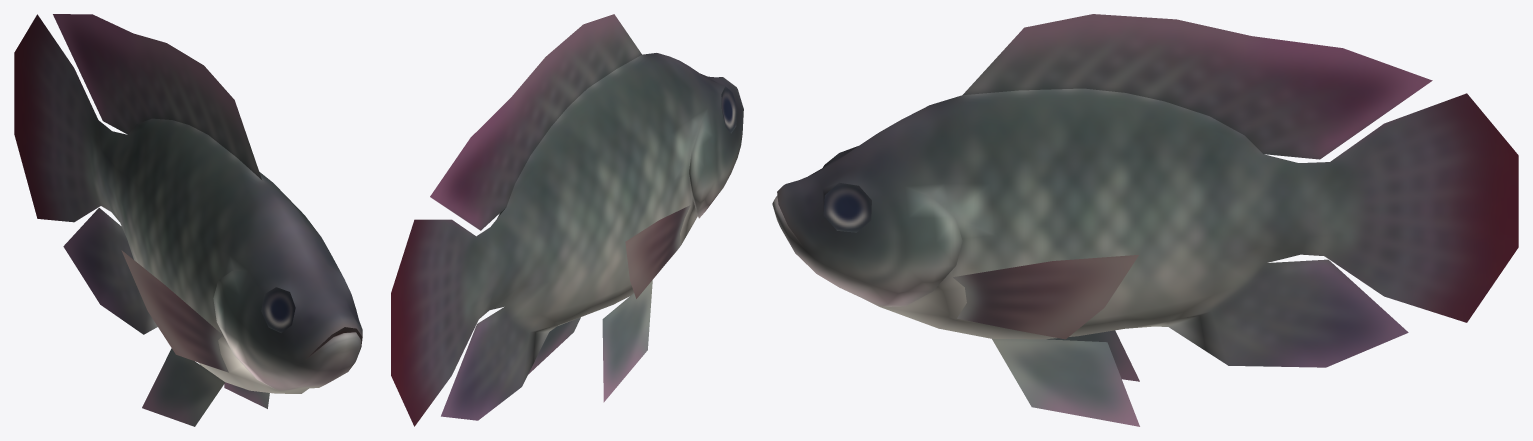
The model's file is tilapia.glb.
The picture shows the model from 3 angles, left to right: view 1: azimuth 30°, elevation 25°; view 2: azimuth 150°, elevation 25°; view 3: azimuth 270°, elevation 25°; orthographic projection. The views are drawn at different scales.
Parts seen in each view (by area): view 1: FishThirapia__mThirapia; view 2: FishThirapia__mThirapia; view 3: FishThirapia__mThirapia.
Boxes of the visible parts, bbox=[...] form: FishThirapia__mThirapia: bbox=[14, 14, 362, 426]; FishThirapia__mThirapia: bbox=[391, 14, 743, 426]; FishThirapia__mThirapia: bbox=[772, 14, 1518, 426].
Size of the model in its own units: 1.54 by 4.12 by 7.14.
1 material, 1 textured.
